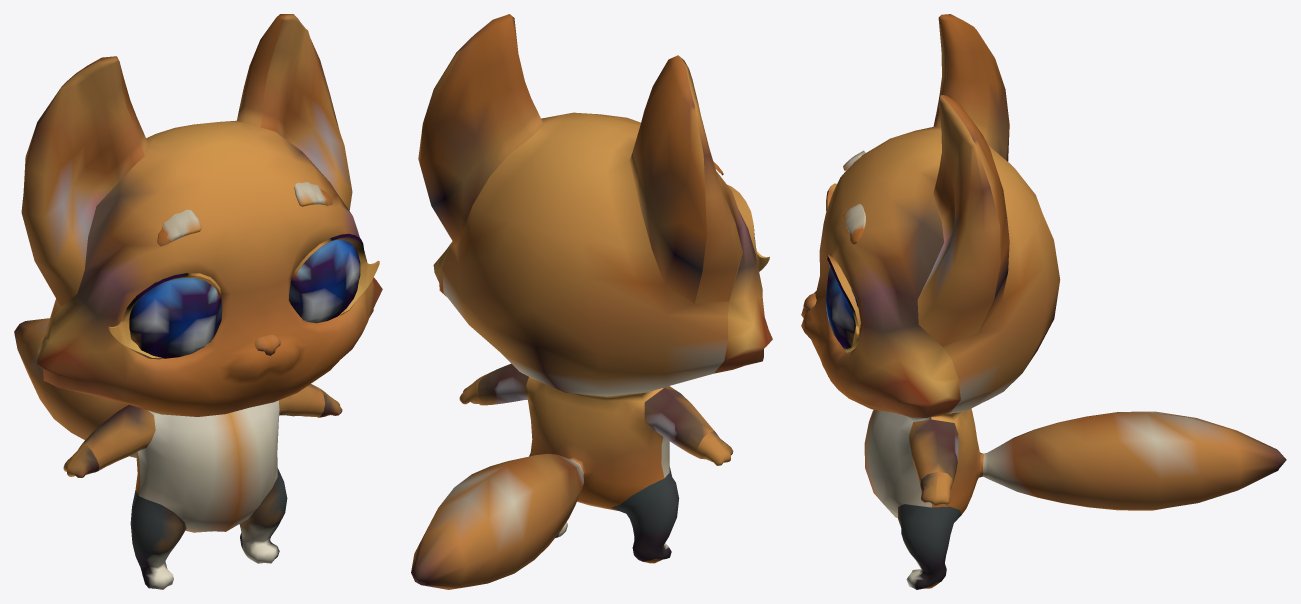
The model's file is baked_fox.glb.
The picture shows the model from 3 angles, left to right: view 1: azimuth 30°, elevation 25°; view 2: azimuth 150°, elevation 25°; view 3: azimuth 270°, elevation 25°; orthographic projection. The views are drawn at different scales.
Visible parts, largest first — view 1: Object_2; view 2: Object_2; view 3: Object_2.
Boxes of the visible parts, left/top/right/bottom form: Object_2: left=14, top=14, right=382, bottom=589; Object_2: left=411, top=14, right=772, bottom=589; Object_2: left=801, top=14, right=1286, bottom=589.
Bounding box in the file's own units: 5.3 × 7.91 × 6.85.
